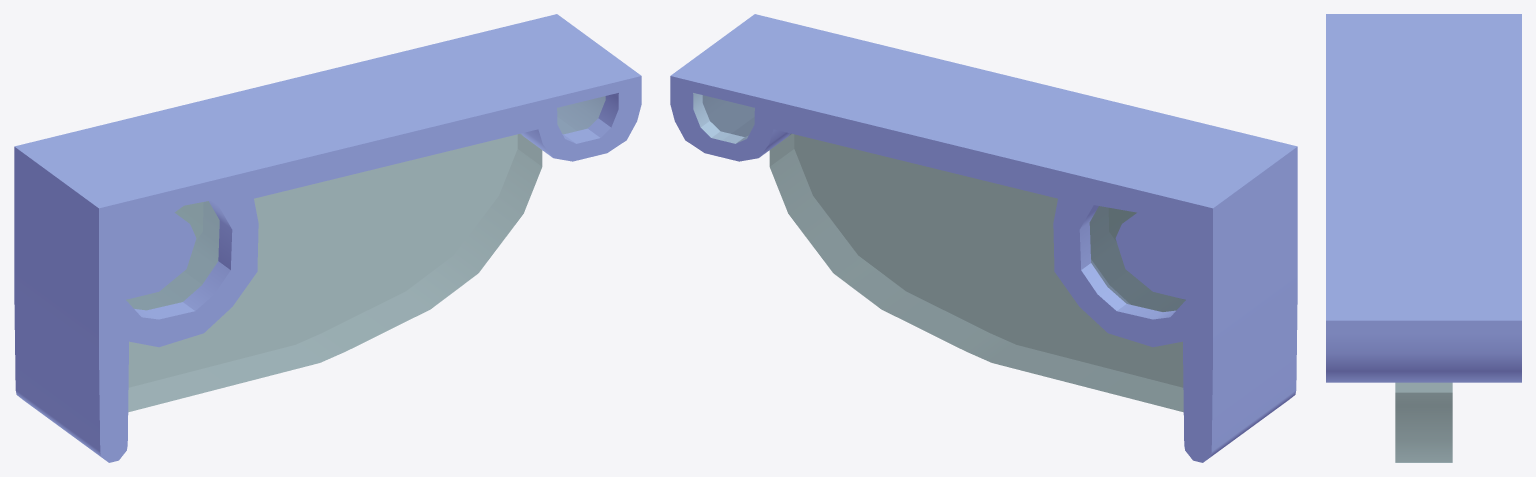
File: Platform_4.fbx
3 views of the same model, side by side, from view 1: azimuth 30°, elevation 25°; view 2: azimuth 150°, elevation 25°; view 3: azimuth 270°, elevation 25° (orthographic). The views are drawn at different scales.
Visible parts, largest first — view 1: Platform_4; view 2: Platform_4; view 3: Platform_4.
Boxes of the visible parts, box(x1,y1,x2,y2) form: Platform_4: box(14, 14, 641, 462); Platform_4: box(670, 14, 1297, 462); Platform_4: box(1326, 14, 1521, 462).
Bounding box in the file's own units: 8.4 × 3.8 × 2.27.
